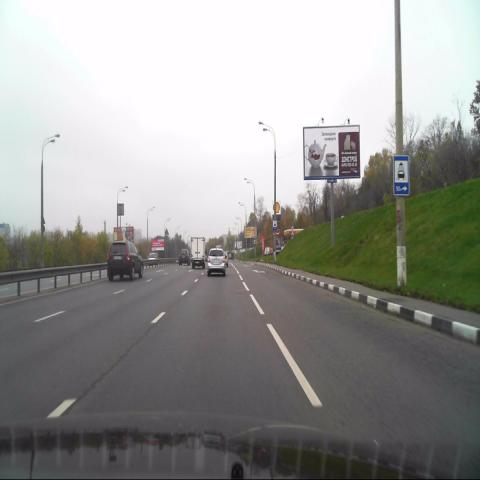7_5: (392, 154, 410, 194)
